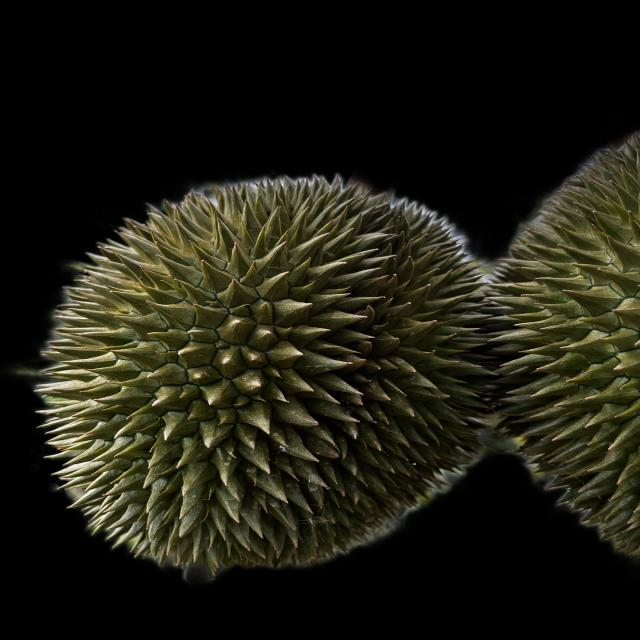immature: (40, 182, 504, 577)
